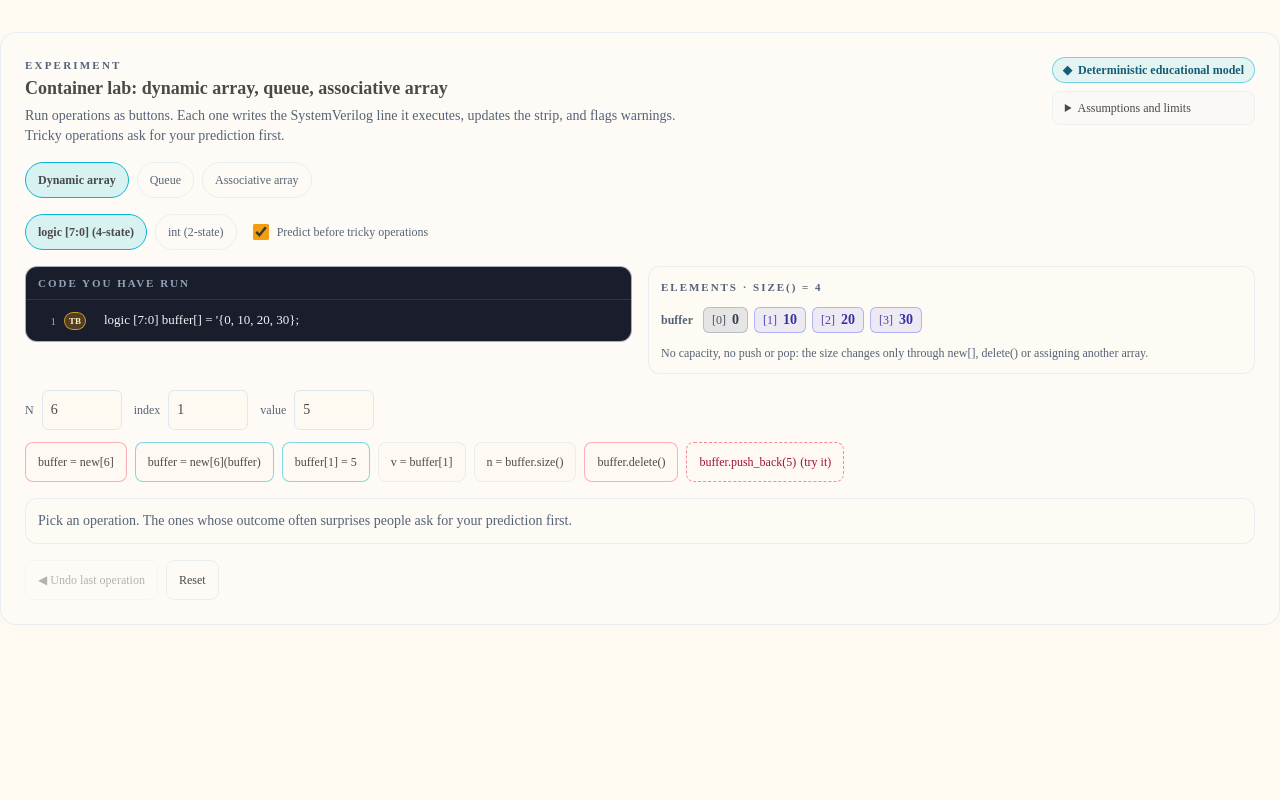
Test case: DynamicStructureVisualizer (container lab) › §7.5: push_back on a dynamic array is a compile error chip, not an append
What coordinates should you click on to do the following:
click the checkbox labelled "Predict before tricky operations"
I would click on:
 (261, 232)
Its box is [253,224,269,240].
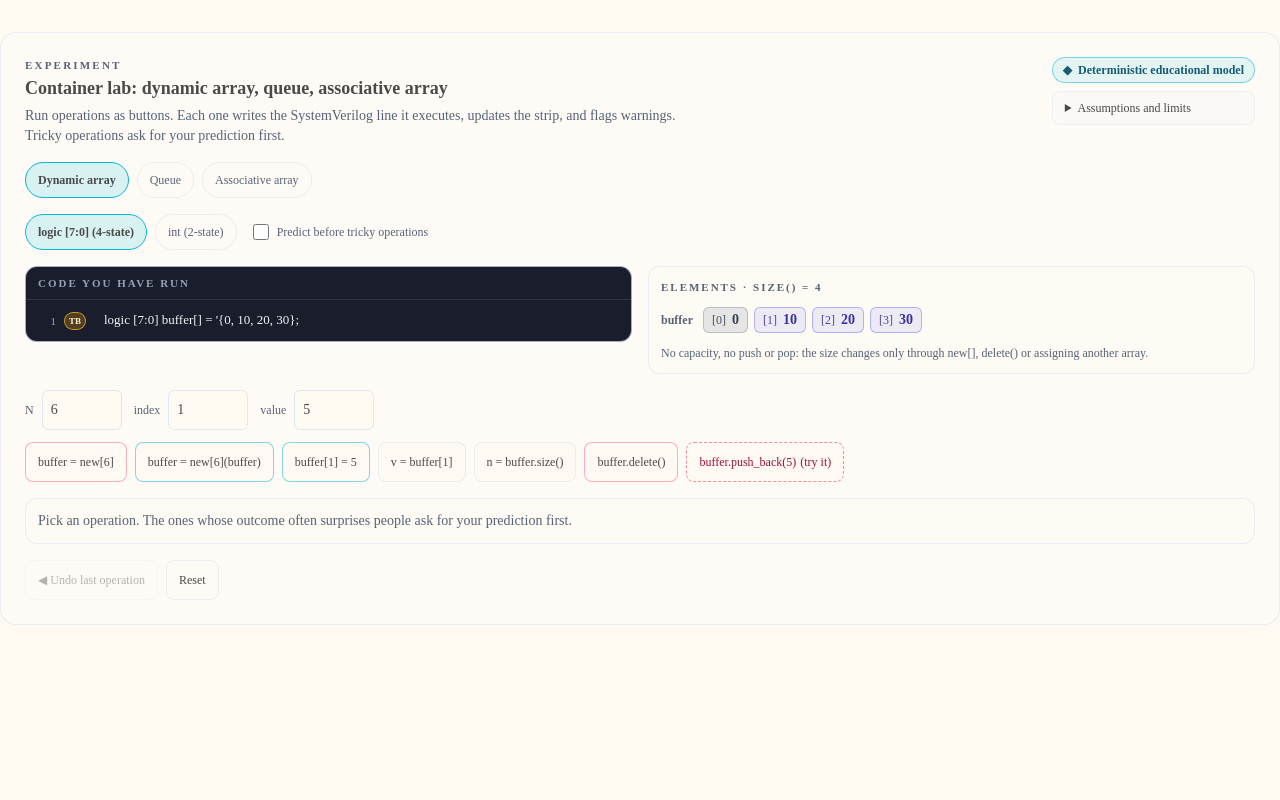
What coordinates should you click on to do the following:
click the button "buffer.push_back(5)(try it)"
I would click on:
 (765, 462)
Its box is [686,442,844,482].
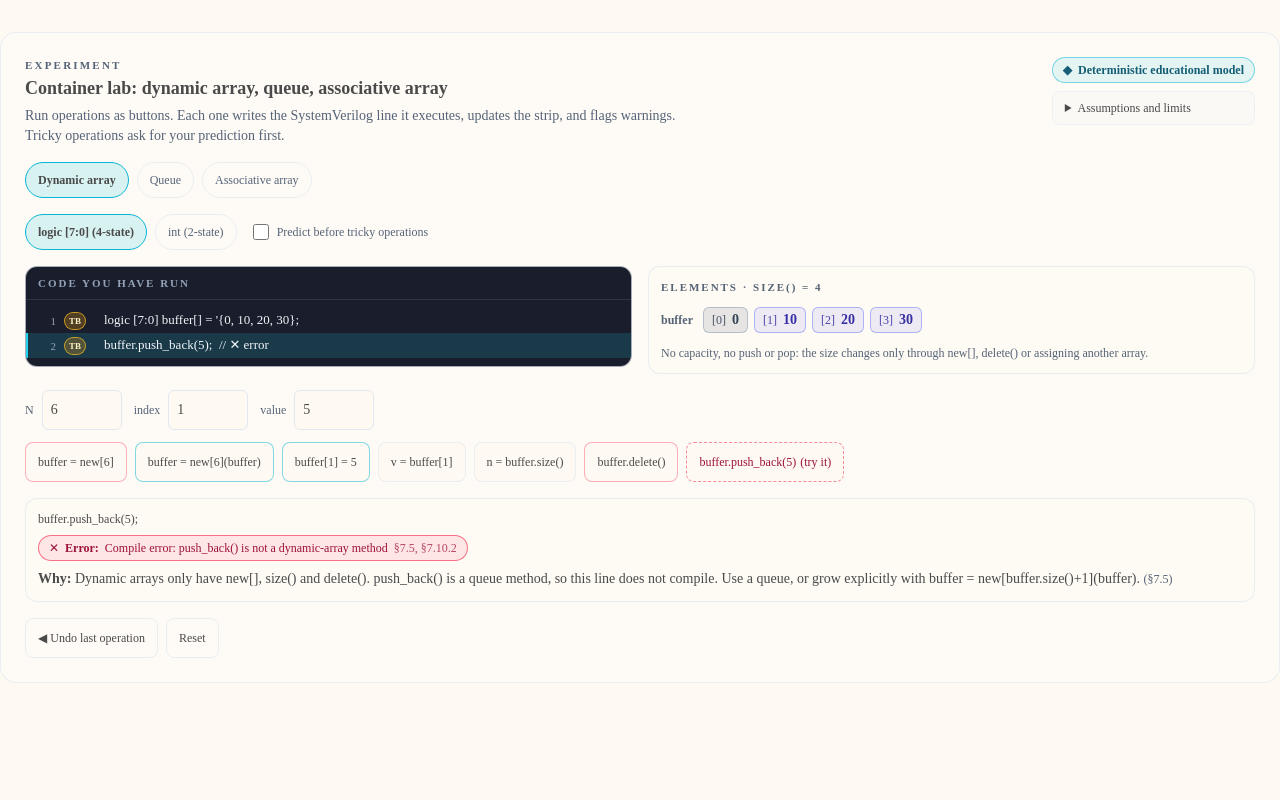
Expected: the text "Elements · size() = 4" is shown, [661,280,822,292]
Expected: the text "Compile error: push_back() is not a dynamic-array method" is shown, [105,540,388,556]
